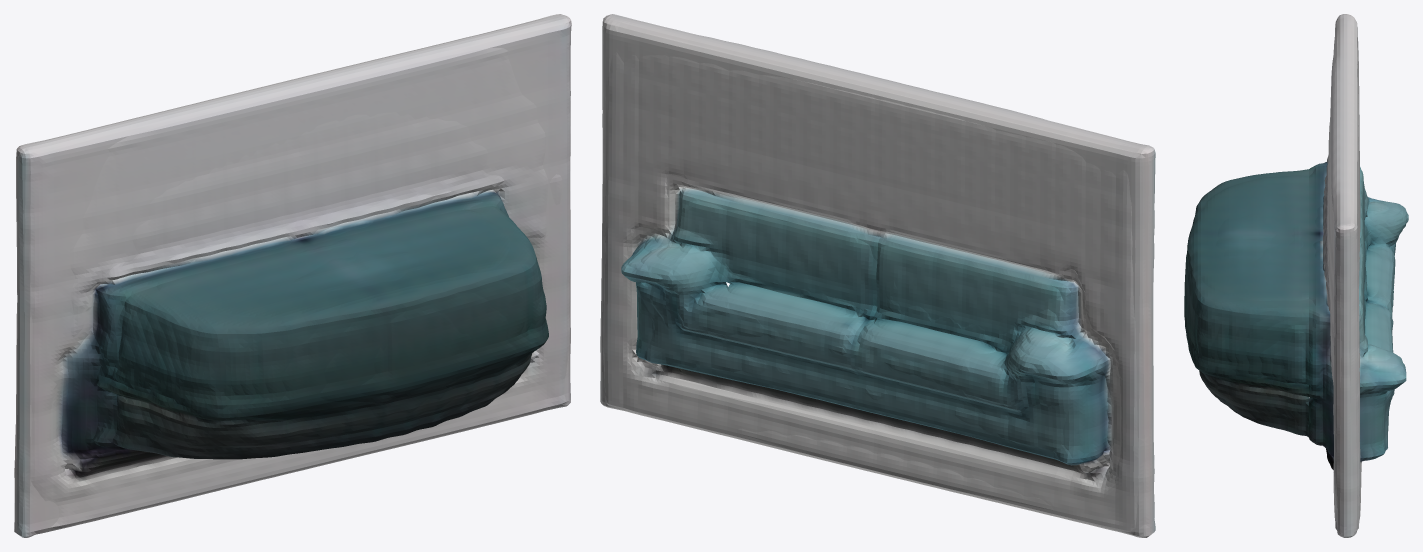
3 renders of one model, left to right at view 1: azimuth 30°, elevation 25°; view 2: azimuth 150°, elevation 25°; view 3: azimuth 270°, elevation 25°, orthographic. The views are drawn at different scales.
Visible parts, largest first — view 1: world; view 2: world; view 3: world.
Part boxes in pixels (x1,y1,x2,y2): world: (14, 14, 571, 537); world: (600, 14, 1155, 537); world: (1184, 14, 1408, 537).
Bounding box in the file's own units: 1 × 0.6743 × 0.4399.
